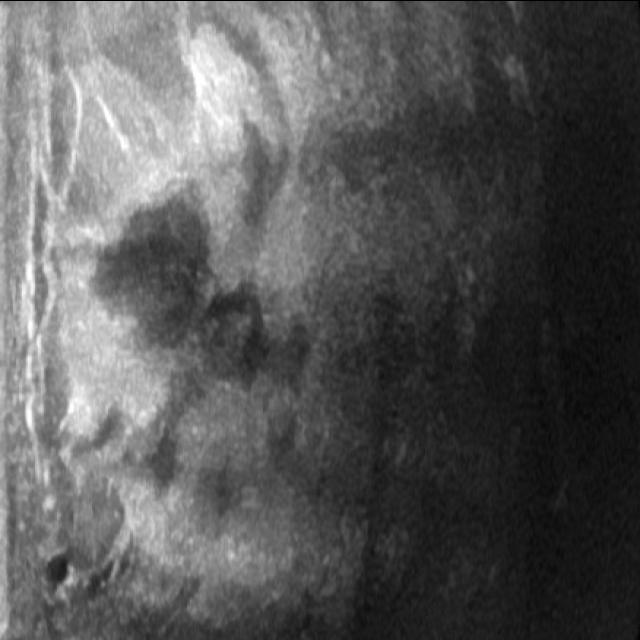Malignant: (89, 208, 214, 336)
